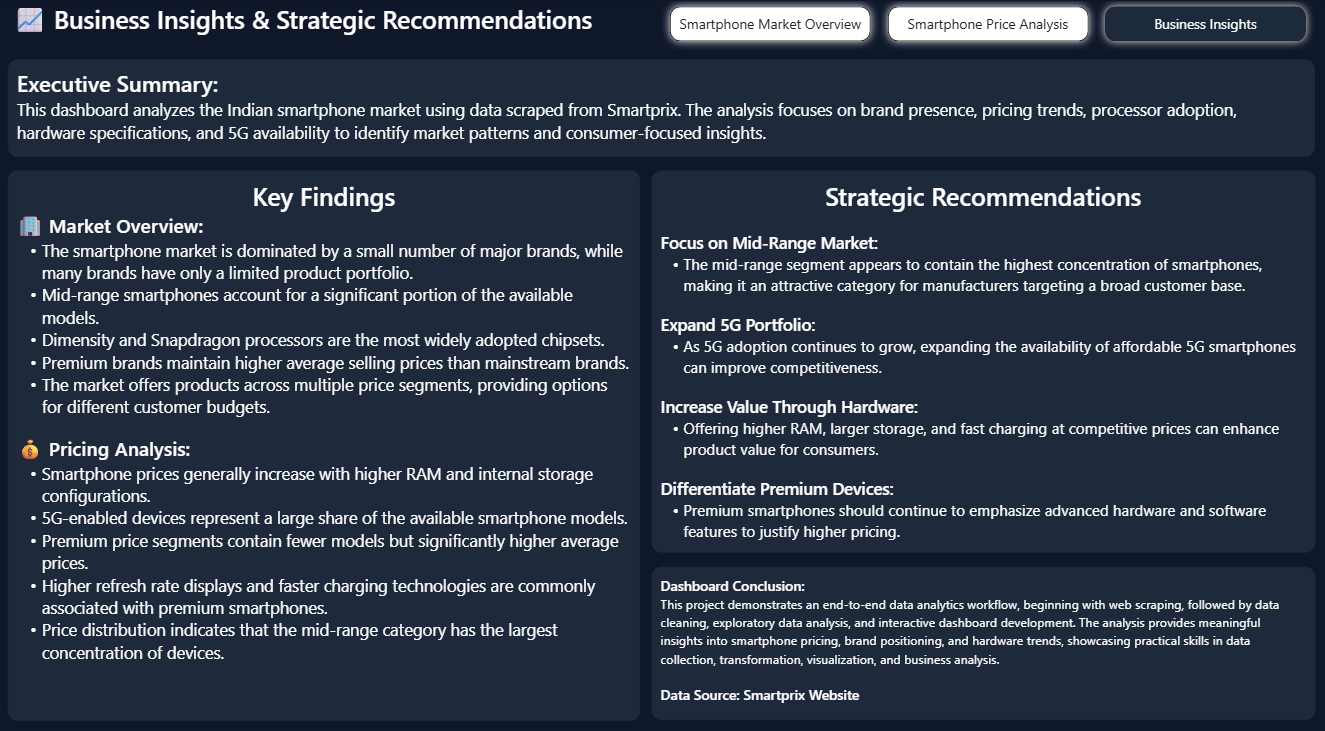

The page's visual inventory and layout, read from the dashboard file:
{"tool":"powerbi","page":{"name":"Business Insights","canvas":[1280,720],"ordinal":2},"visuals":[{"type":"textbox","box":[8.4,0,581.5,59.1],"z":0},{"type":"textbox","box":[8.4,59.1,1261.9,94.1],"z":1000},{"type":"textbox","box":[8.4,166.5,610.5,530.8],"z":2000},{"type":"textbox","box":[629.8,166.5,640.6,369.2],"z":3000},{"type":"textbox","box":[629.8,548.9,640.6,148.4],"z":4000},{"type":"pageNavigator","box":[639.4,0,631,50.7],"z":5000}]}

Visuals, with their boxes in screenshot pixels (x1, y1, x2, y2), scaled from the page's 1280x720 canvas onto the 1325x731 screenshot:
textbox: 9:0:611:60
textbox: 9:60:1315:156
textbox: 9:169:641:708
textbox: 652:169:1315:544
textbox: 652:557:1315:708
pageNavigator: 662:0:1315:51
